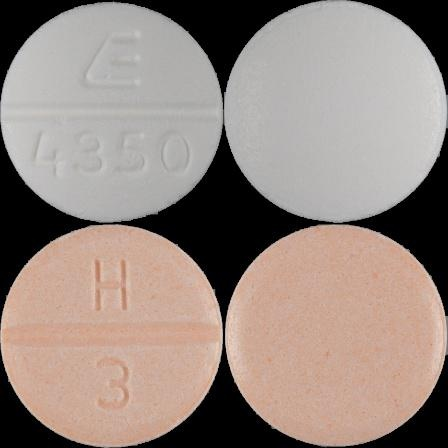68788-8927: (0, 0, 224, 224)
